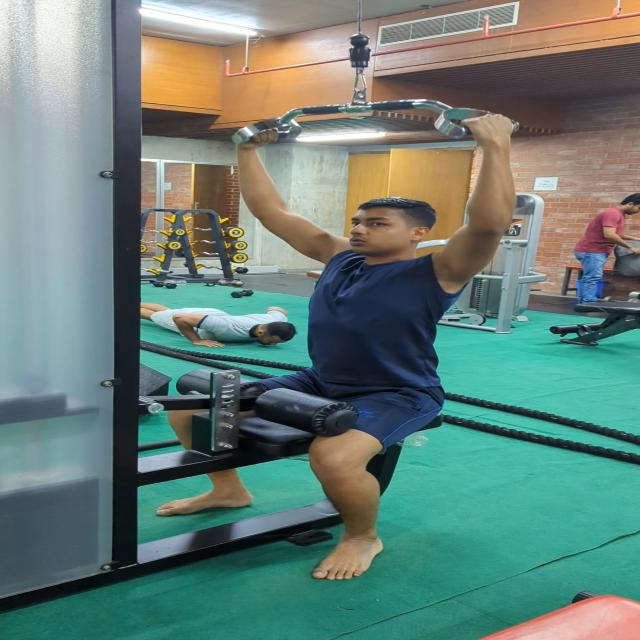Normal_LatPulldown: (151, 110, 528, 587)
